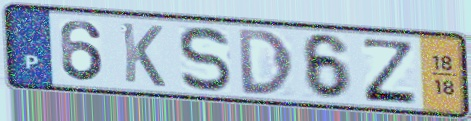6: (298, 32, 356, 102), (57, 18, 107, 83)
D: (235, 27, 297, 97)
K: (119, 20, 168, 90)
S: (177, 24, 233, 94)
Z: (361, 36, 420, 107)
